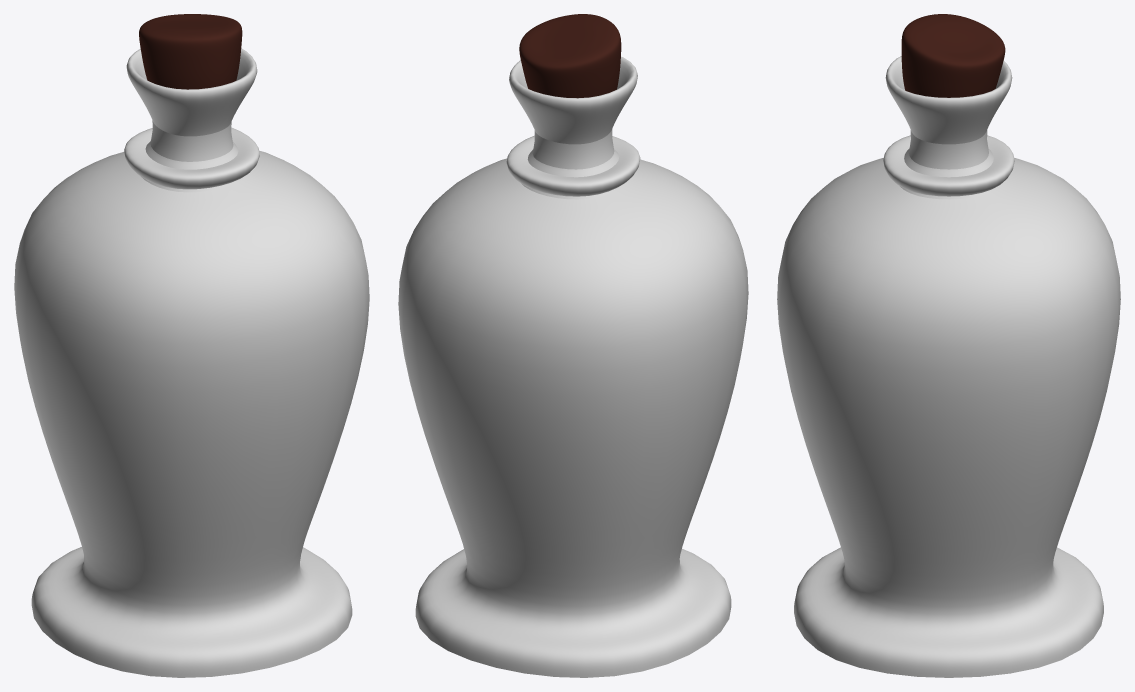
Rendered from empty bottle.fbx.
The picture shows the model from 3 angles, left to right: view 1: azimuth 30°, elevation 25°; view 2: azimuth 150°, elevation 25°; view 3: azimuth 270°, elevation 25°; orthographic projection.
Visible parts, largest first — view 1: bottle; view 2: bottle; view 3: bottle.
Boxes of the visible parts, box(x1,y1,x2,y2) form: bottle: box(14, 14, 369, 677); bottle: box(398, 14, 748, 677); bottle: box(777, 14, 1120, 677).
Size of the model in its own units: 18.9 by 35.36 by 18.9.
